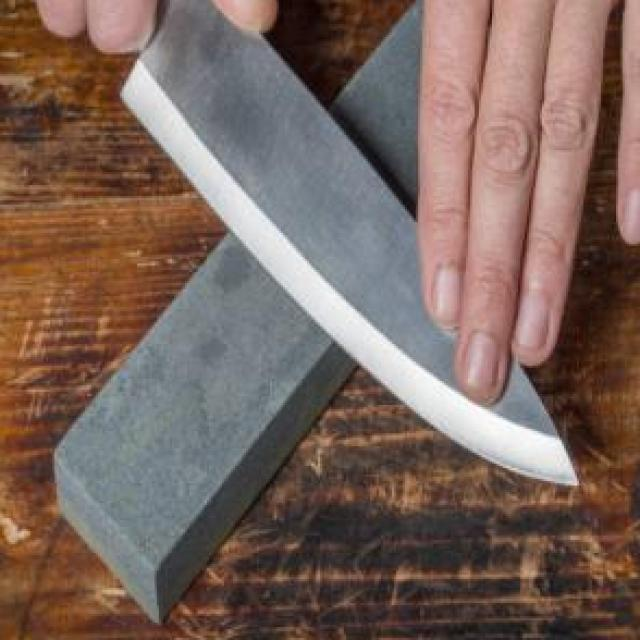knife: (116, 0, 584, 490)
